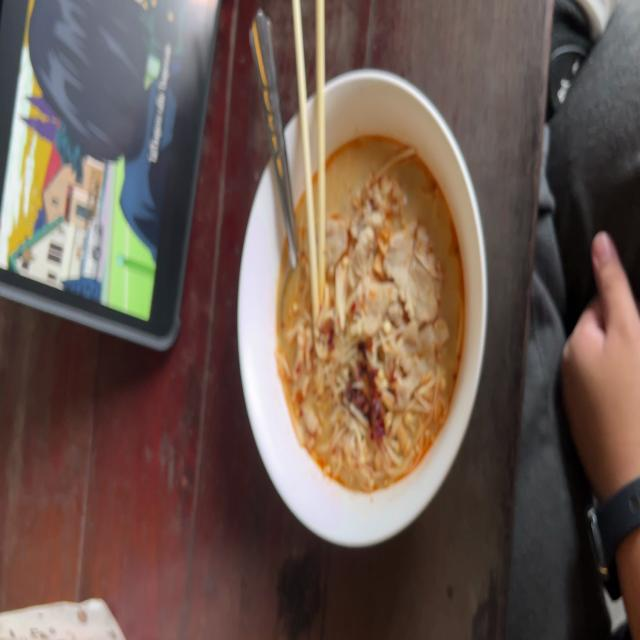noodle: (243, 77, 500, 530)
